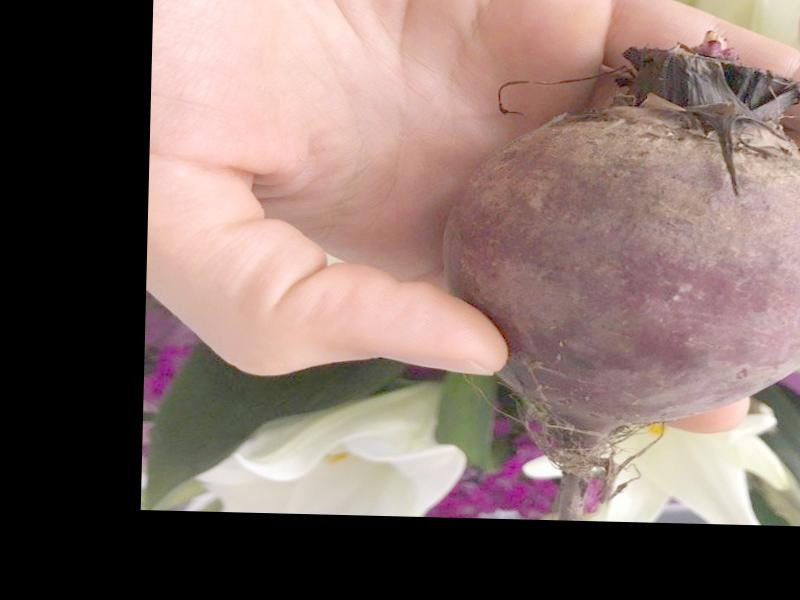Beet: (437, 27, 800, 525)
